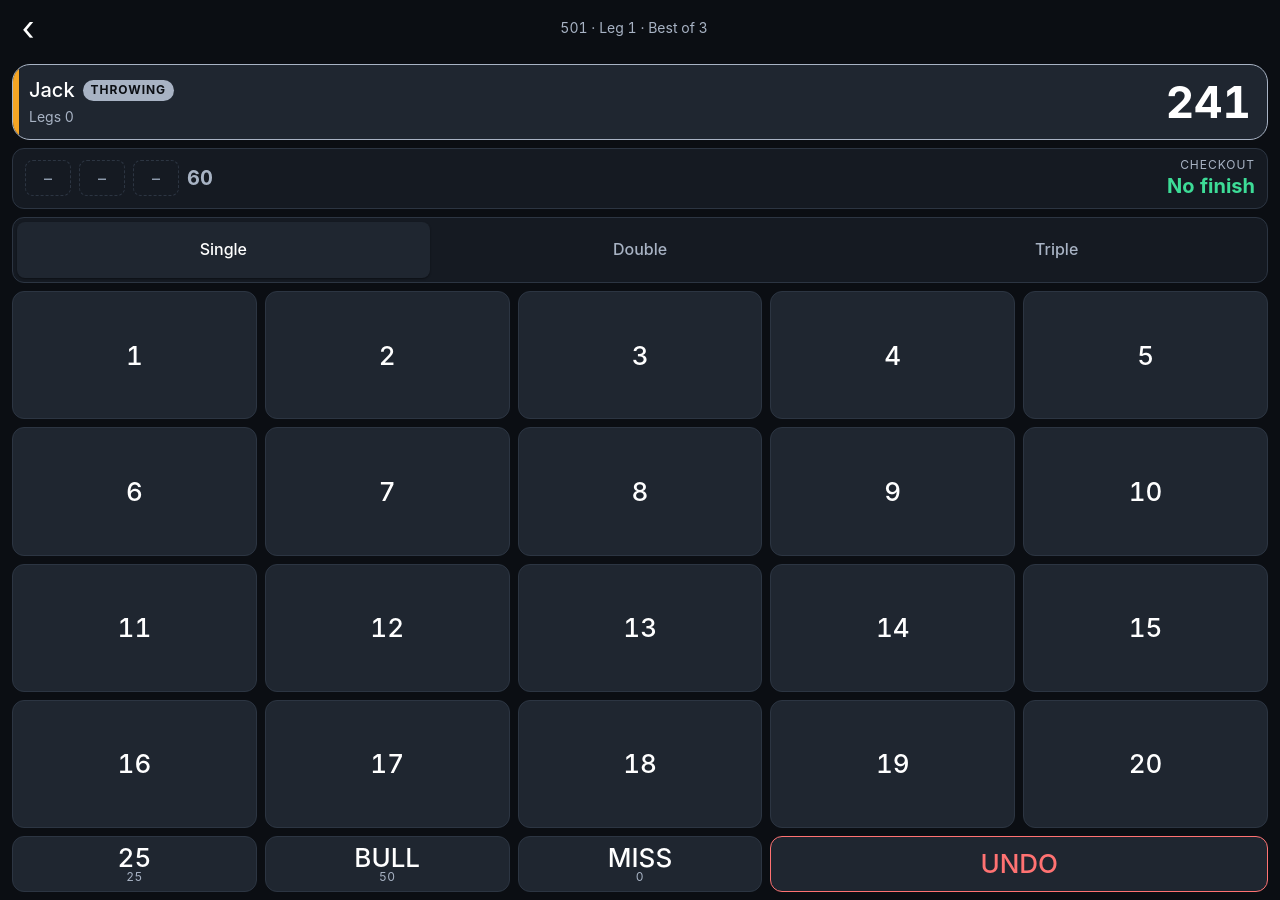
Scenario: the visit strip when the turn passes › clears in a practice match too, where the turn passes back to the same player
Expected: the element named "Jack, 241 remaining, 0 legs finished, throwing now" is shown, left=12, top=64, right=1268, bottom=140
What coordinates should you click on to do the following:
click the button named "20, single"
I would click on:
 (1146, 764)
Its box is left=1023, top=700, right=1268, bottom=828.
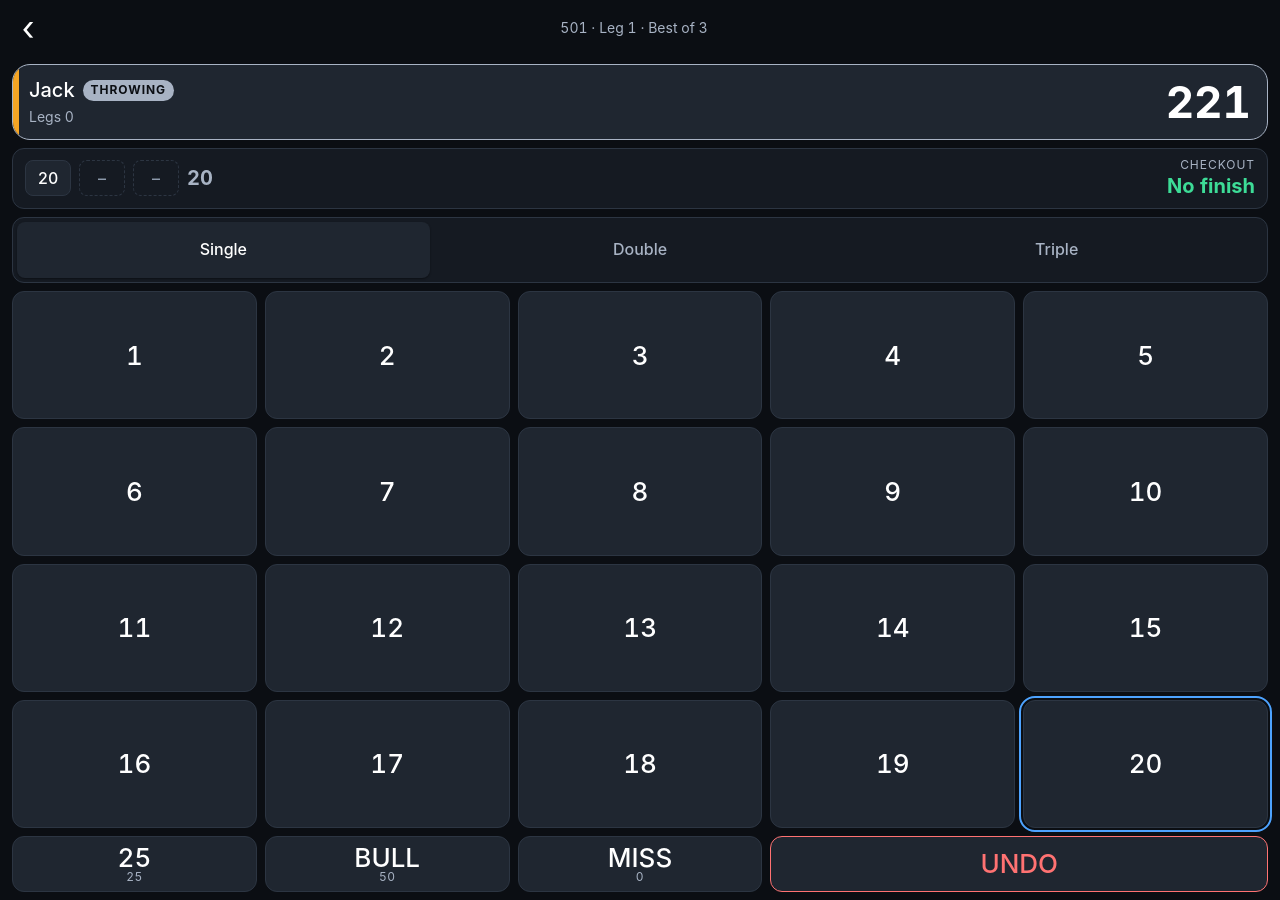
Now the text named "Visit scored 20" is shown, box left=187, top=165, right=213, bottom=192
